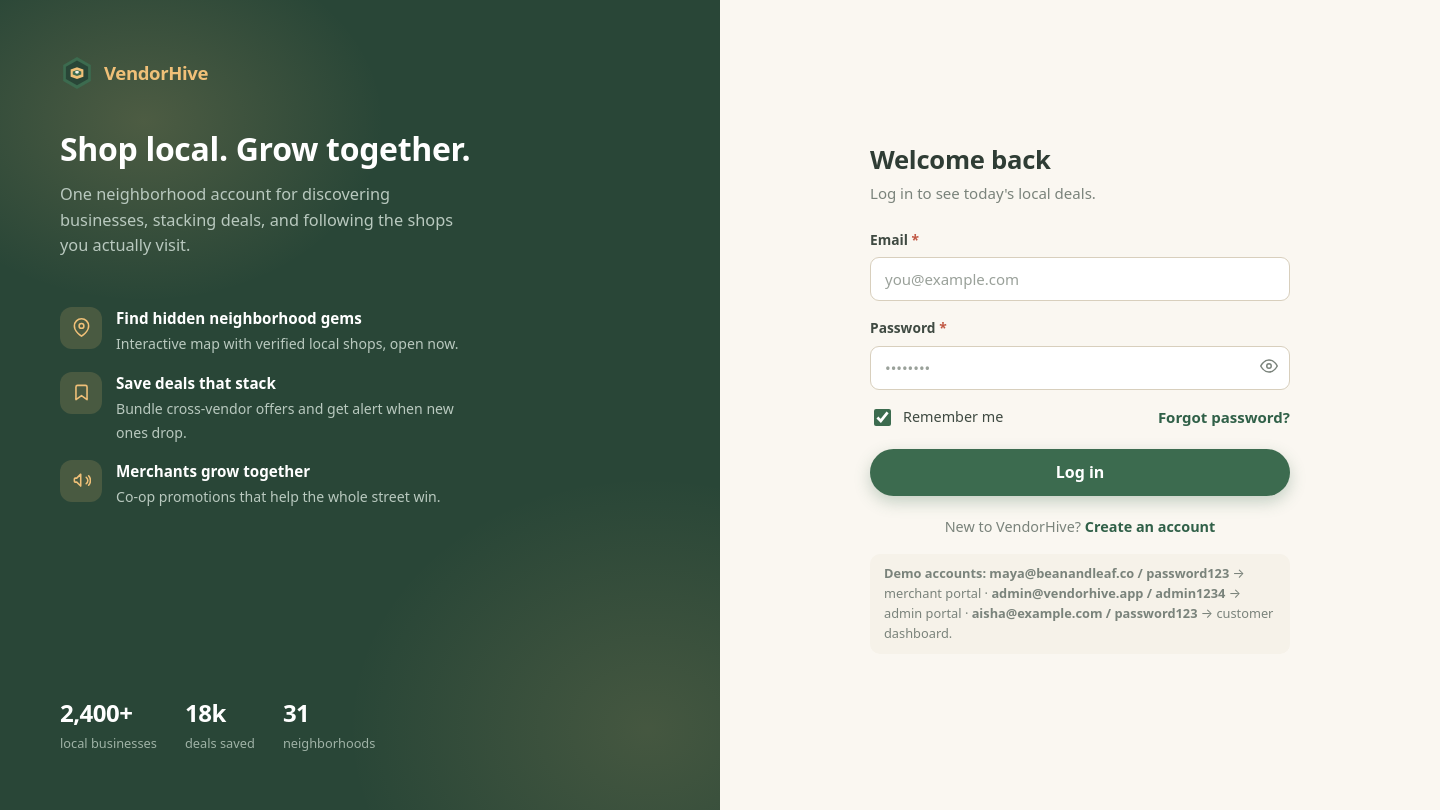
Test: Login page › surfaces a bad-credentials error
Type "aisha@example.com" into the field with placeholder "you@example.com" at [1080, 279], box [870,257,1290,301]
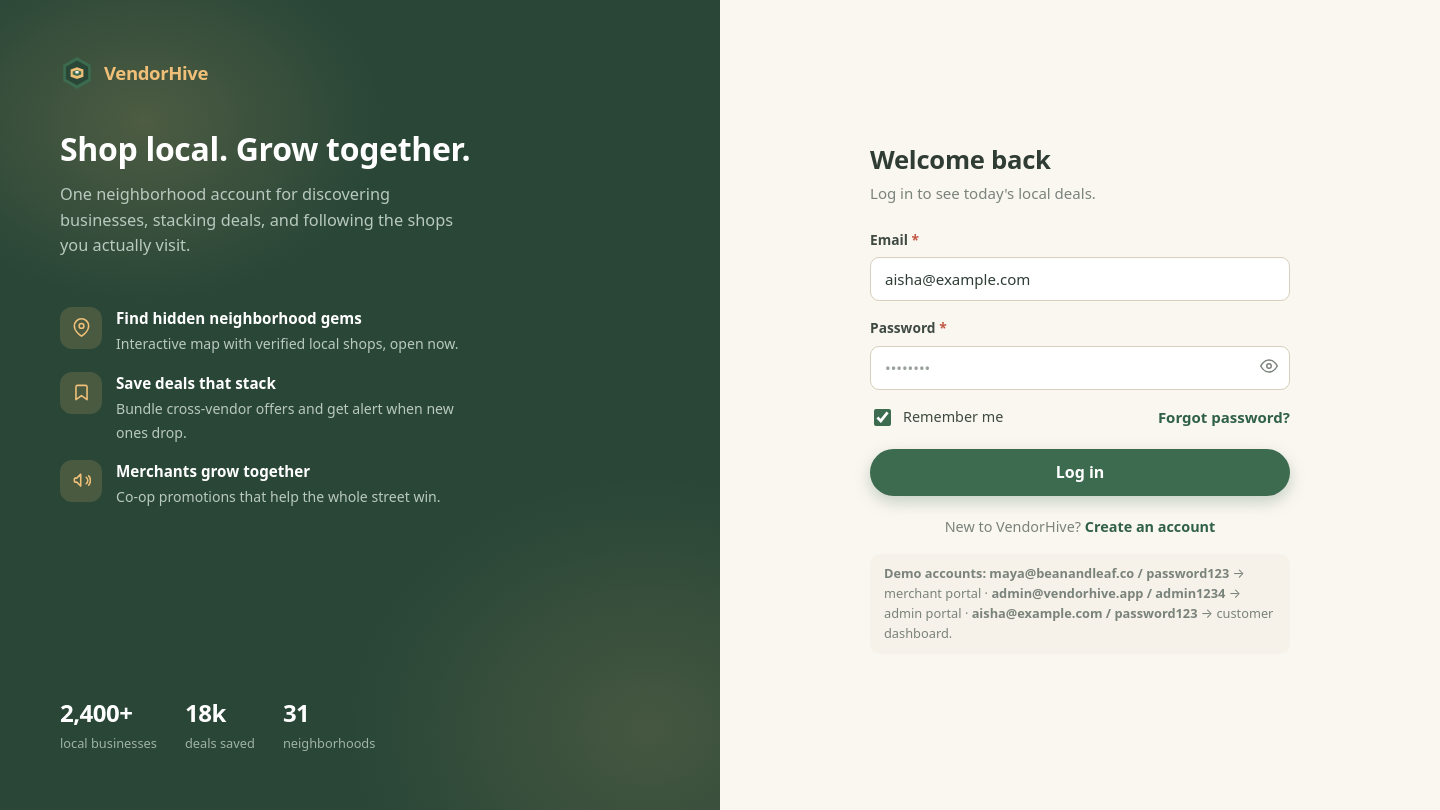
Type "wrong" into the password field with placeholder "••••••••" at [1080, 368], box [870,346,1290,390]
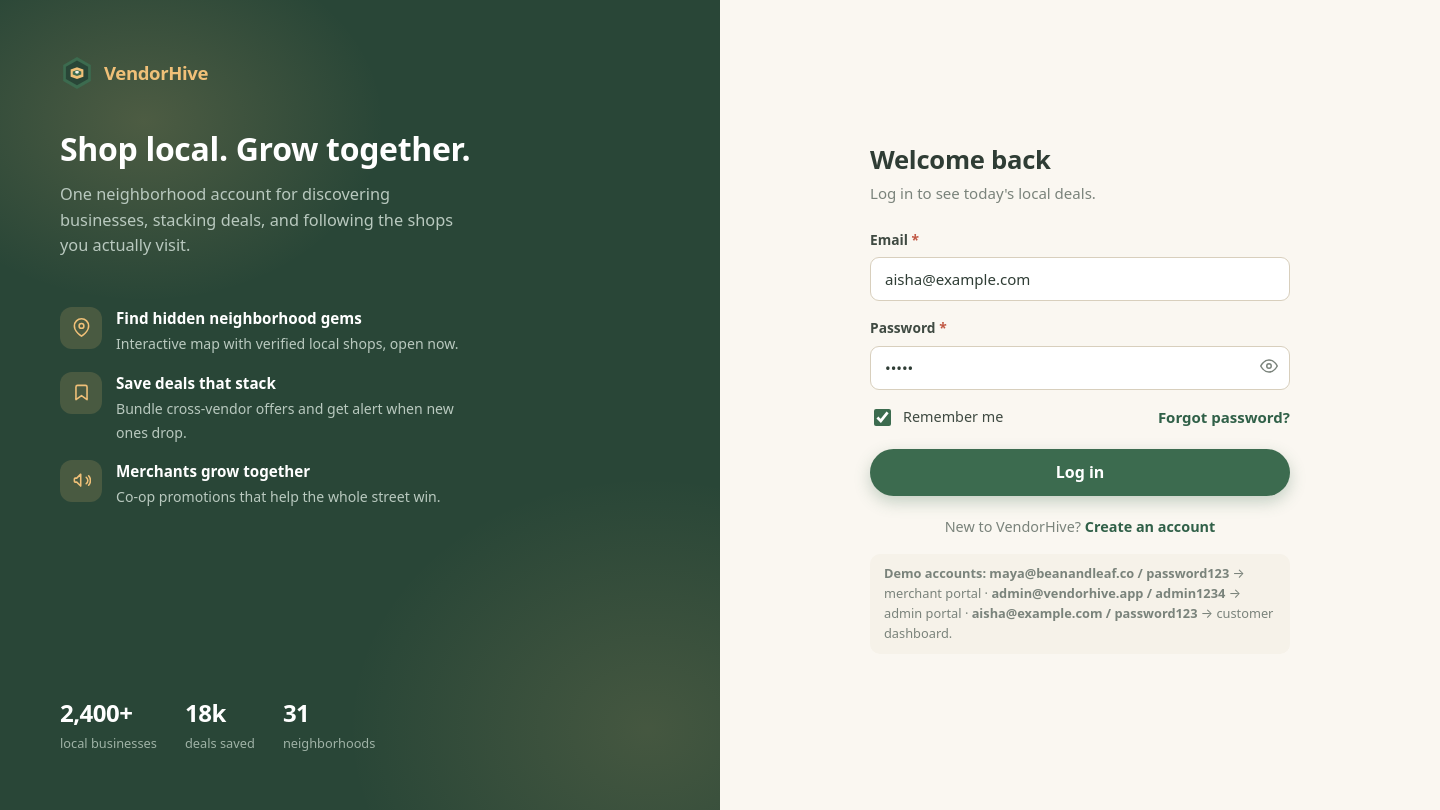
Click the button "Log in" at [1080, 472], box [870,449,1290,496]
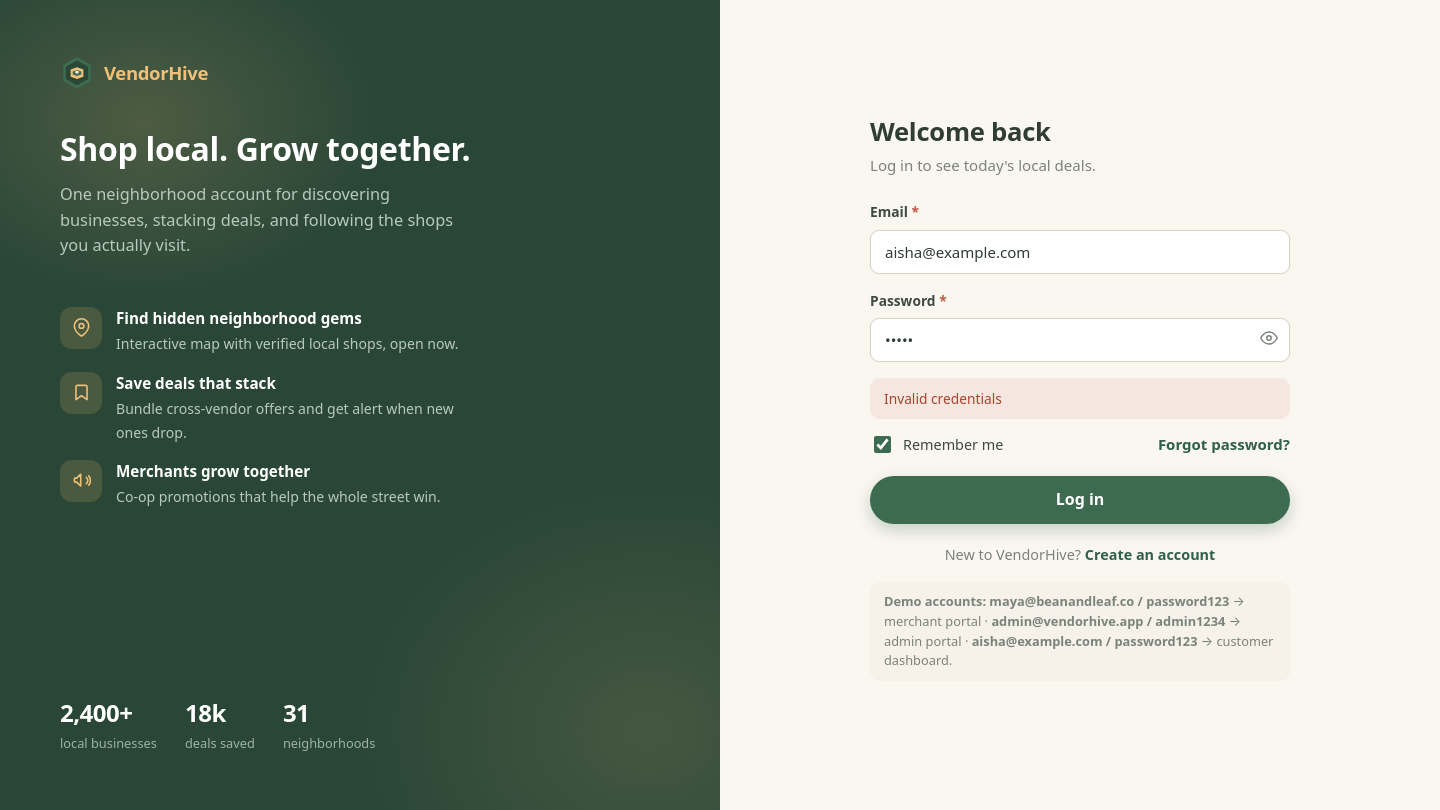
Check: the text "Invalid credentials" is shown, box [870,378,1290,419]
